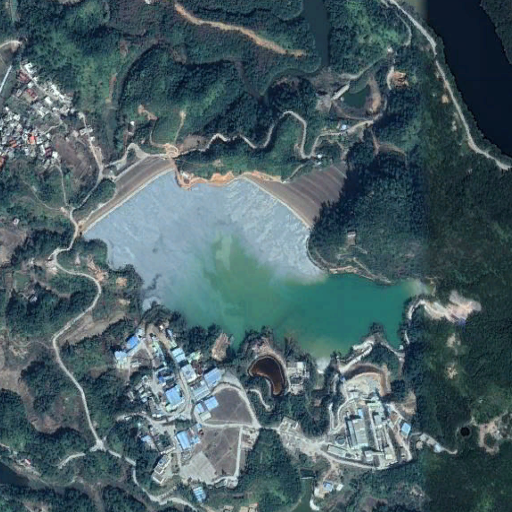tp: (71, 154, 436, 357)
